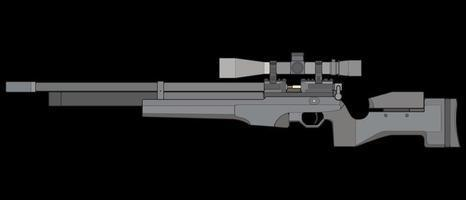larga: (4, 50, 461, 150)
